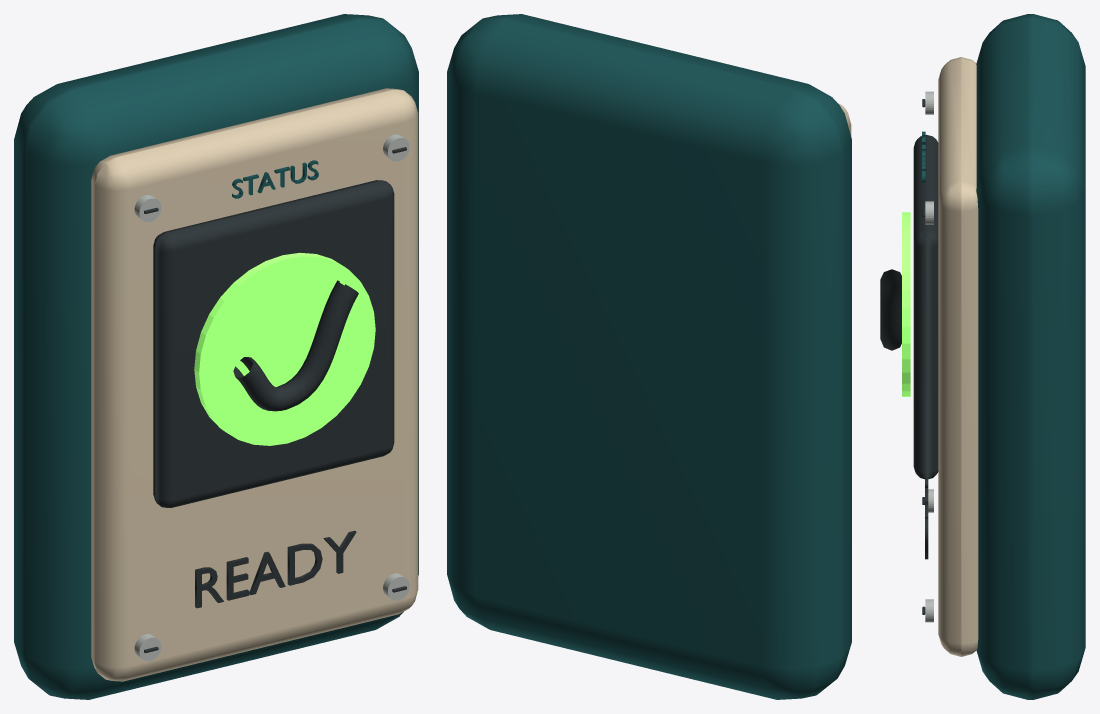
File: status_green_ready.glb
3 views of the same model, side by side, from view 1: azimuth 30°, elevation 25°; view 2: azimuth 150°, elevation 25°; view 3: azimuth 270°, elevation 25° (orthographic). The views are drawn at different scales.
Visible parts, largest first — view 1: status_green_ready__Shell_Warm_Cream, status_green_ready__Enamel_Teal, status_green_ready__Rubber_Graphite, status_green_ready__Status_Green, status_green_ready__Brushed_Hardware; view 2: status_green_ready__Enamel_Teal; view 3: status_green_ready__Enamel_Teal, status_green_ready__Shell_Warm_Cream, status_green_ready__Rubber_Graphite, status_green_ready__Status_Green, status_green_ready__Brushed_Hardware.
Boxes of the visible parts, x1,y1,x2,y2 form: status_green_ready__Shell_Warm_Cream: (91,88,418,681); status_green_ready__Enamel_Teal: (14,14,418,699); status_green_ready__Rubber_Graphite: (144,147,406,653); status_green_ready__Status_Green: (194,252,375,445); status_green_ready__Brushed_Hardware: (134,134,409,661); status_green_ready__Enamel_Teal: (447,14,851,699); status_green_ready__Enamel_Teal: (922,14,1085,699); status_green_ready__Shell_Warm_Cream: (938,57,978,656); status_green_ready__Rubber_Graphite: (880,99,938,614); status_green_ready__Status_Green: (902,212,910,396); status_green_ready__Brushed_Hardware: (925,91,933,622).
Bounding box in the file's own units: 0.14 × 0.21 × 0.071.
